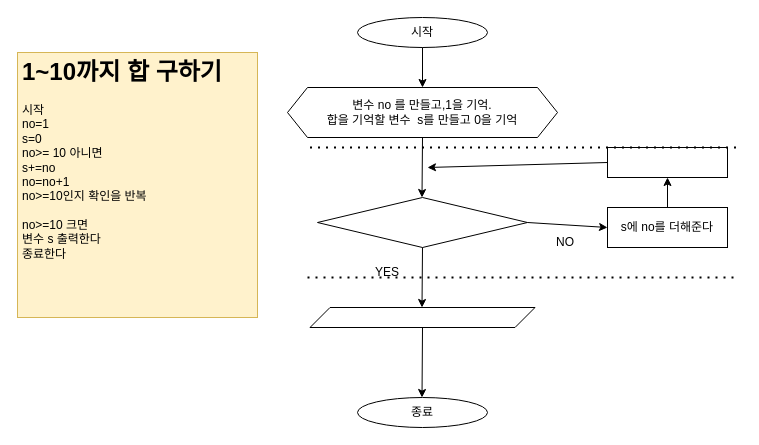
Image size: 759x445. Some labels were removed from this diagram. Each missing label, with the centre of its shape:
"no가 10보다 크니?" goes at point (422, 222).
"no에 1을 더해준다" goes at point (667, 162).
"변수 s 합으로 출력" goes at point (422, 317).
